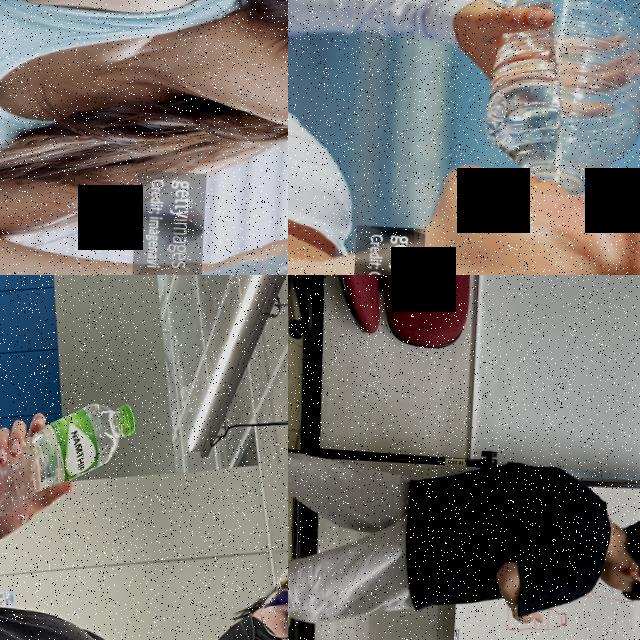bottle: (480, 0, 640, 200), (0, 392, 137, 531)
